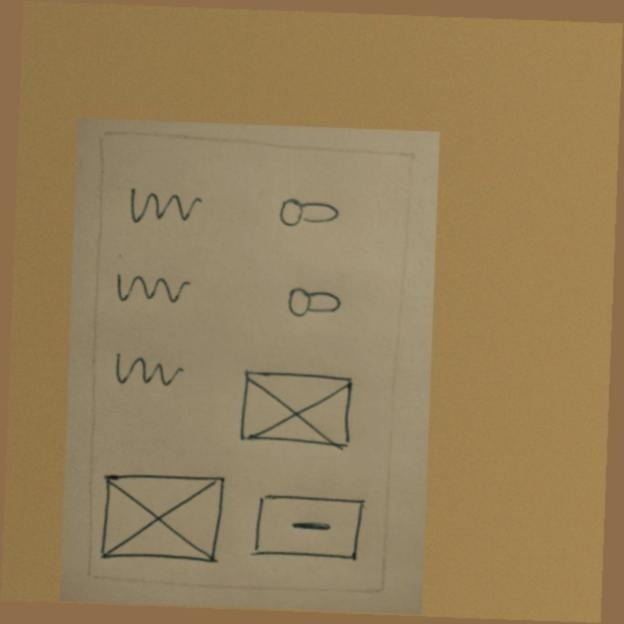button: (249, 488, 367, 567)
image: (96, 469, 227, 567), (235, 365, 356, 453)
switch: (273, 190, 347, 238), (279, 279, 345, 325)
text: (107, 347, 193, 403), (113, 265, 193, 313), (122, 183, 204, 228)
